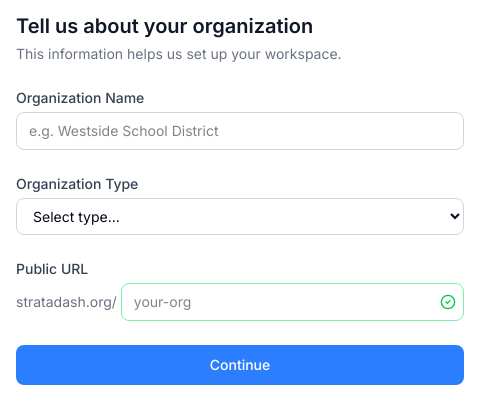
OrgCreationStep › cleans slug input to only allow lowercase letters, numbers, and hyphens
The width and height of the screenshot is (483, 402).
Type "My Org!@#" into the field labelled "Public URL" at (292, 302), box [121, 283, 464, 321]
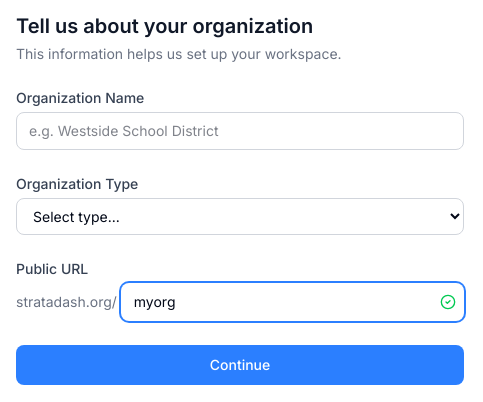
Now the field labelled "Public URL" holds "myorg", box [121, 283, 464, 321]
